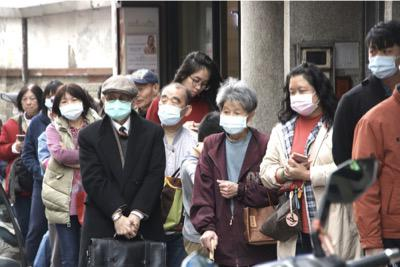with_mask: (367, 44, 398, 81), (288, 84, 317, 118), (219, 104, 248, 136), (157, 92, 182, 127), (103, 94, 132, 121), (58, 96, 84, 122), (43, 92, 56, 112)
without_mask: (184, 74, 211, 98), (19, 92, 41, 116), (134, 82, 150, 110)
